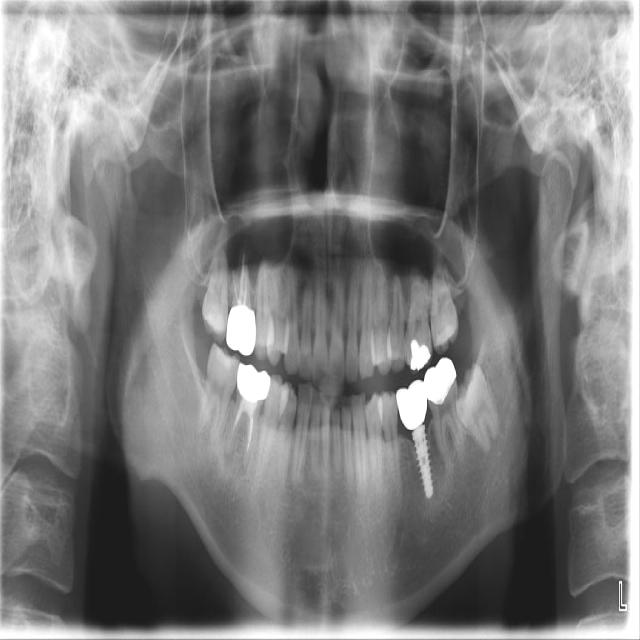Crown: (396, 380, 427, 430), (226, 305, 256, 355), (236, 362, 270, 403), (425, 359, 455, 405)
Filling: (410, 340, 432, 372)
Implant: (414, 440, 433, 500)
Periapical lesion: (224, 439, 235, 472), (240, 455, 248, 476)
Root Canal Treatment: (247, 402, 258, 456), (232, 398, 247, 435), (237, 255, 244, 306), (242, 268, 247, 307), (233, 280, 237, 299)
impacted tooth: (457, 372, 504, 456)
